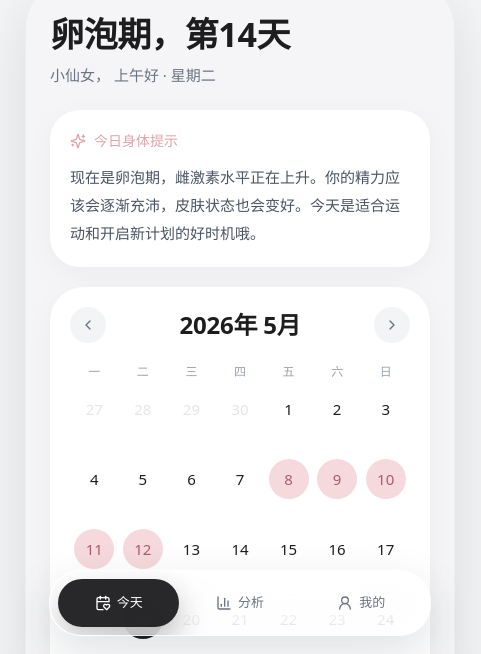
Test: Half Moon app › syncs insights with saved cycle periods and day logs
Click the button "分析" at (240, 603), box [179, 579, 301, 627]
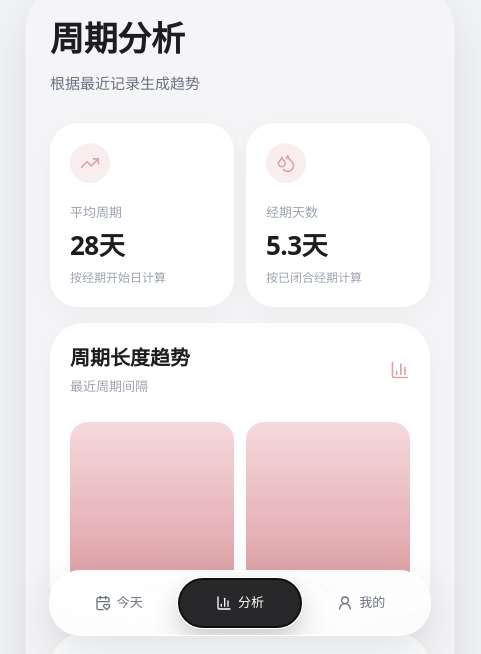
Expected: the text "28天" is shown, [70, 227, 124, 263]
Expected: the text "5.3天" is shown, [266, 227, 327, 263]
Expected: the text "4/10" is shown, [140, 580, 164, 596]
